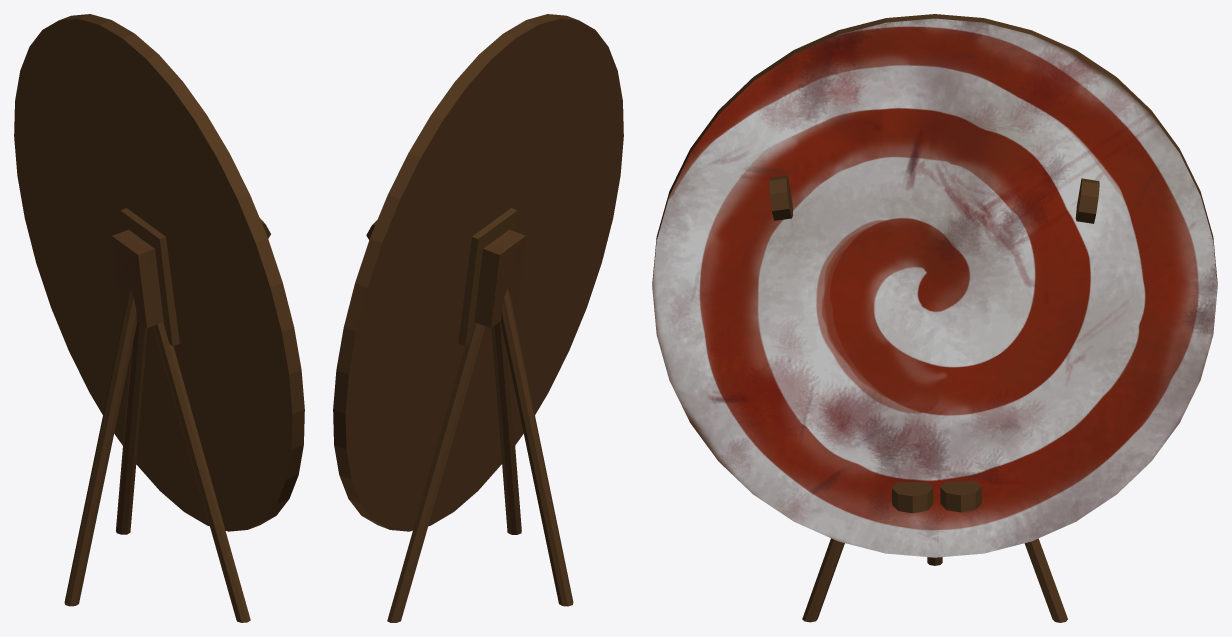
The model's file is knifethrowing_board_1.1.fbx.
3 renders of one model, left to right at view 1: azimuth 30°, elevation 25°; view 2: azimuth 150°, elevation 25°; view 3: azimuth 270°, elevation 25°, orthographic. The views are drawn at different scales.
Parts seen in each view (by area): view 1: throwing_board; view 2: throwing_board; view 3: throwing_board.
Part boxes in pixels (x1=…): throwing_board: x1=14, y1=14, x2=304, y2=622; throwing_board: x1=333, y1=14, x2=623, y2=622; throwing_board: x1=652, y1=14, x2=1217, y2=622.
Size of the model in its own units: 77.62 by 253 by 225.
Materials: 1 (1 with a texture image).
